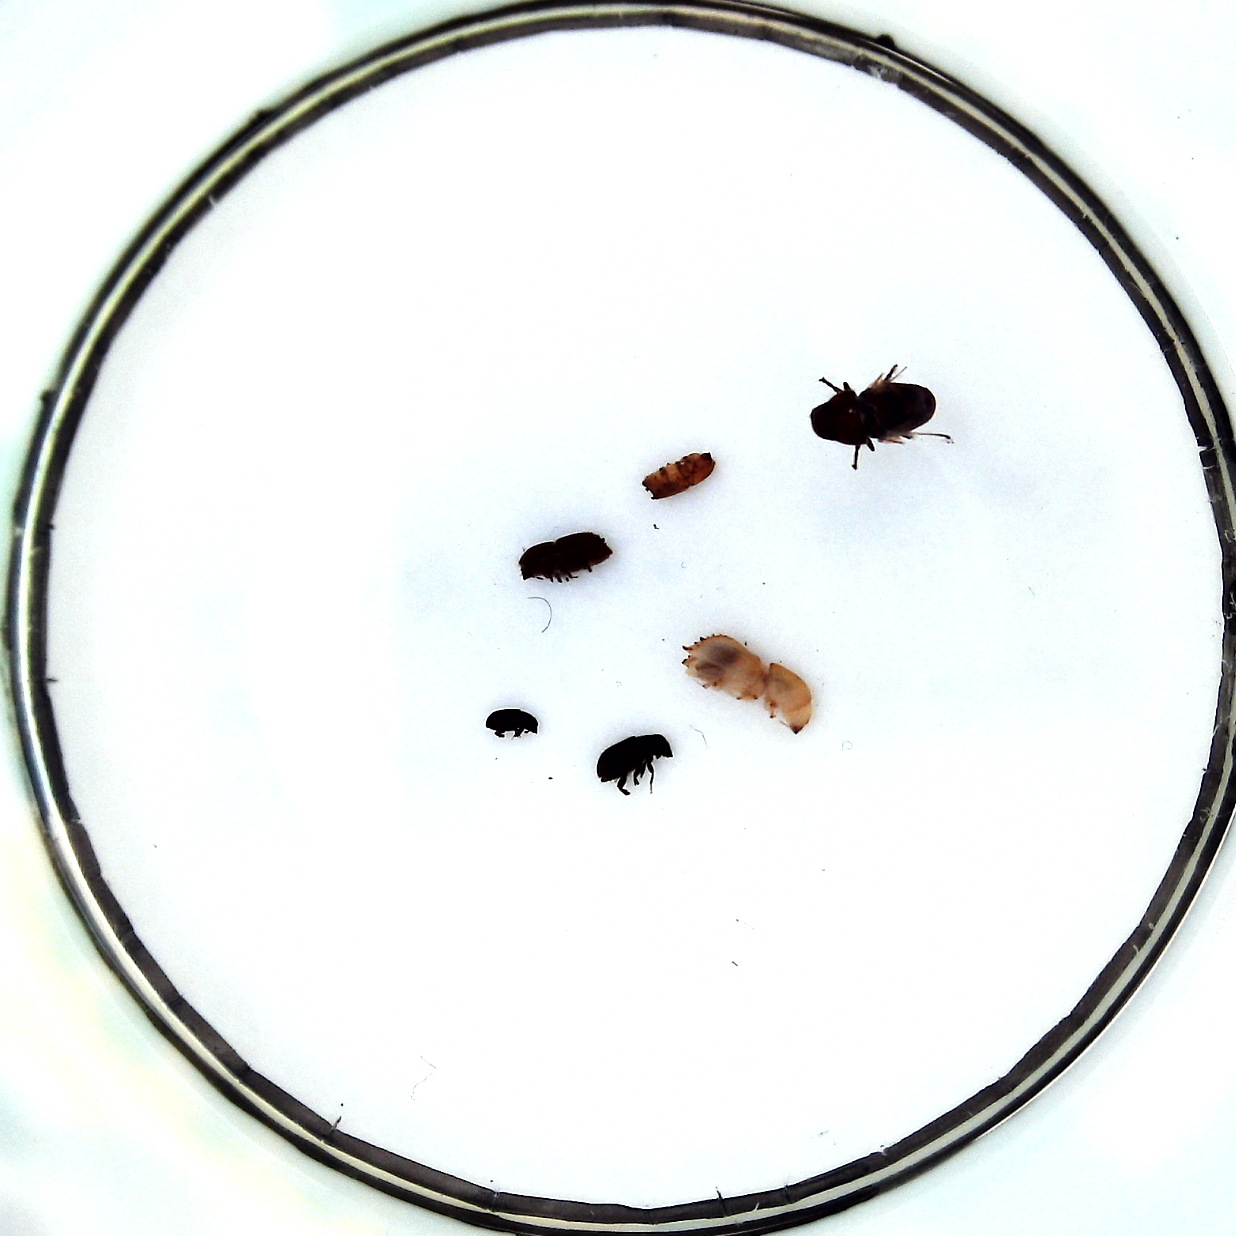Boerner: (680, 633, 813, 735)
Leconte: (812, 381, 936, 445)
acuminatus: (484, 709, 538, 735)
armandi: (596, 733, 673, 782)
linnaeus: (520, 533, 613, 581), (641, 452, 716, 501)
